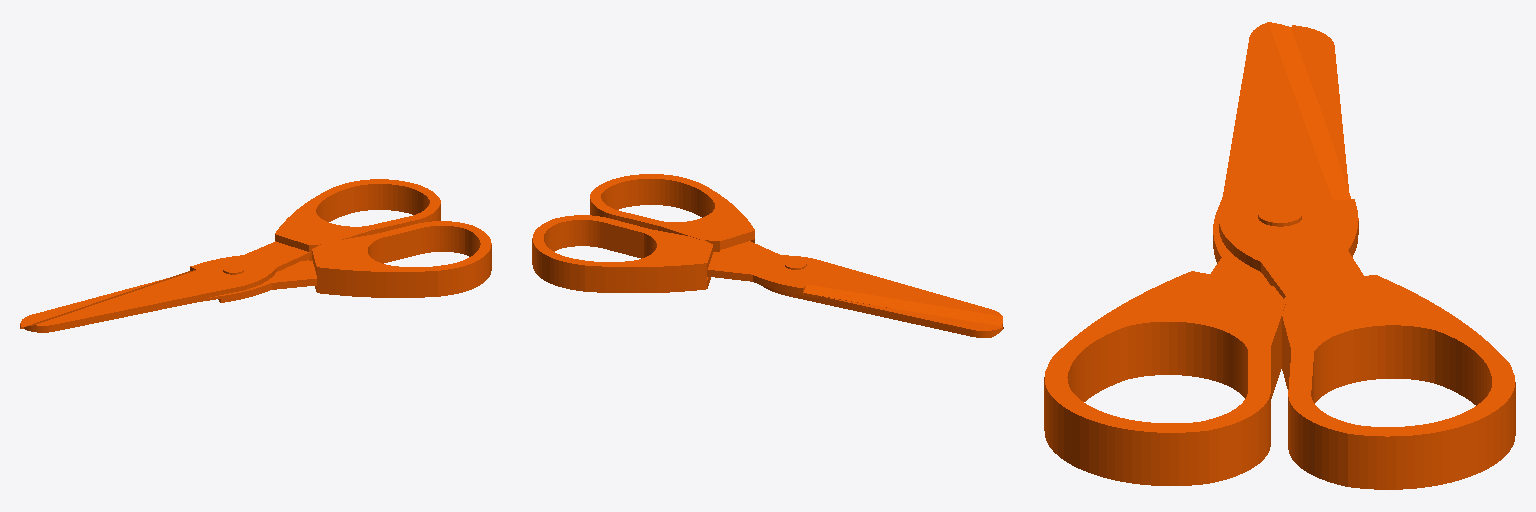
The robot description file, URDF, robot "Scissors_11067":
<?xml version="1.0" ?>
<robot name="Scissors_11067">
   <material name="obj_color">
      <color rgba="1.0 0.423529411765 0.0392156862745 1.0"/>
   </material>
   <link name="top">
      <inertial>
         <origin rpy="0.0004493069636340183 0.000536875210283596 0.000963434516419523" xyz="0.08857447883063946 -0.001122421527096791 -0.002134086886954894"/>
         <mass value="0.3404382014633865"/>
         <inertia ixx="0.0005358408710124055" ixy="-9.464788903671184e-06" ixz="7.311431488615836e-07" iyy="0.0004503442469718771" iyz="9.482570094659718e-07" izz="0.0009634315723528545"/>
      </inertial>
      <visual>
         <origin rpy="0 0 0" xyz="0 0 0"/>
         <geometry>
            <mesh filename="top_watertight_tiny.stl" scale="1 1 1"/>
         </geometry>
         <material name="obj_color"/>
      </visual>
      <collision>
         <origin rpy="0 0 0" xyz="0 0 0"/>
         <geometry>
            <mesh filename="top_watertight_tiny.obj" scale="1 1 1"/>
         </geometry>
      </collision>
   </link>
   <link name="bottom">
      <inertial>
         <origin rpy="1.921161967227185e-05 0.0004169150974767184 0.0004335679636281615" xyz="-0.05385660737721973 0.0008422770366875572 -0.001959838412738641"/>
         <mass value="0.1114311032338084"/>
         <inertia ixx="1.9287714821531e-05" ixy="5.487756948097296e-06" ixz="-3.872932418315531e-07" iyy="0.0004168412001268294" iyz="-1.697195522127105e-07" izz="0.0004335657658287911"/>
      </inertial>
      <visual>
         <origin rpy="0 0 0" xyz="0 0 0"/>
         <geometry>
            <mesh filename="bottom_watertight_tiny.stl" scale="1 1 1"/>
         </geometry>
         <material name="obj_color"/>
      </visual>
      <collision>
         <origin rpy="0 0 0" xyz="0 0 0"/>
         <geometry>
            <mesh filename="bottom_watertight_tiny.obj" scale="1 1 1"/>
         </geometry>
      </collision>
   </link>
   <link name="world"/>
   <joint name="world_to_base" type="fixed">
      <origin xyz="0 0 0"/>
      <axis xyz="0 0 0"/>
      <parent link="world"/>
      <child link="bottom"/>
   </joint>
   <joint name="rotation" type="revolute">
      <origin xyz="0 0 0"/>
      <axis xyz="0 0 -1"/>
      <parent link="bottom"/>
      <child link="top"/>
      <dynamics damping="1.0" friction="1.0"/>
      <limit effort="0.1" velocity="0.1" lower="0" upper="0.001"/>
   </joint>
</robot>

--- Facts derived from the render (not from the file) ---
Views: 3 orthographic renders of the robot side by side, from view 1: azimuth 30°, elevation 25°; view 2: azimuth 150°, elevation 25°; view 3: azimuth 270°, elevation 25°.
Robot: Scissors_11067 — 3 links, 2 joints (1 revolute, 1 fixed); root link world; default pose: every joint at zero.
Links seen in each view (by area): view 1: top, bottom; view 2: top, bottom; view 3: top, bottom.
Link boxes in pixels (x1,y1,x2,y2): top: (275,179,491,297); bottom: (20,241,316,332); top: (532,174,754,292); bottom: (707,242,1003,337); top: (1044,264,1515,489); bottom: (1211,22,1363,295).
Size in the robot's own frame: 0.3498 by 0.1599 by 0.0202 metres.
2 mesh visuals loaded from 2 distinct referenced files (2 binary STL).